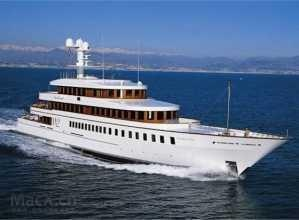yacht: (20, 33, 289, 170)
